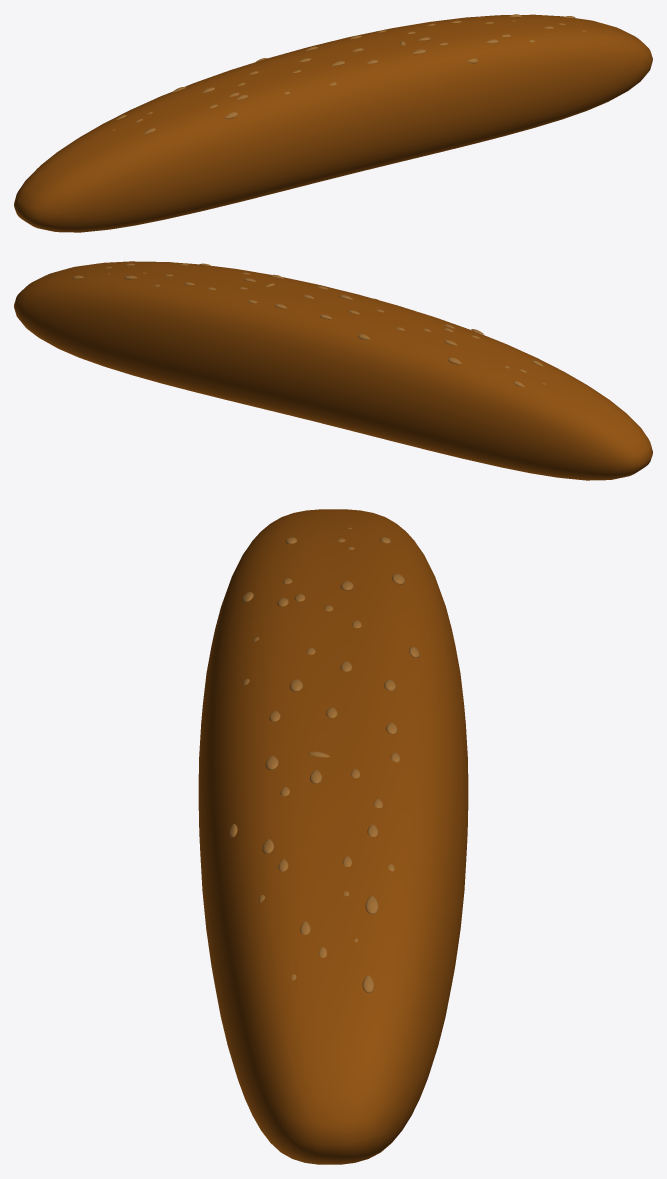
The model's file is bread_beta.fbx.
3 renders of one model, top to bottom at view 1: azimuth 30°, elevation 25°; view 2: azimuth 150°, elevation 25°; view 3: azimuth 270°, elevation 25°, orthographic. The views are drawn at different scales.
Visible parts, largest first — view 1: Box071; view 2: Box071; view 3: Box071.
Boxes of the visible parts, left/top/right/bottom form: Box071: left=14, top=14, right=652, bottom=232; Box071: left=14, top=261, right=652, bottom=480; Box071: left=198, top=509, right=468, bottom=1164.
Size of the model in its own units: 28.37 by 4.78 by 5.28.
